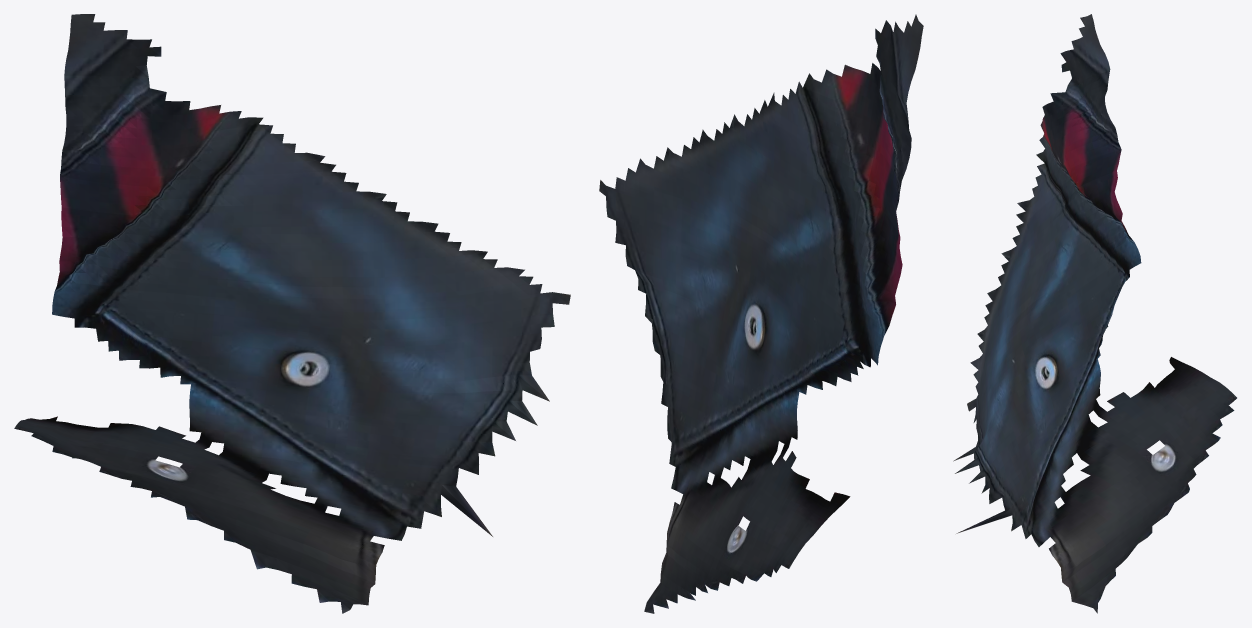
The model's file is observed-surface.glb.
The picture shows the model from 3 angles, left to right: view 1: azimuth 30°, elevation 25°; view 2: azimuth 150°, elevation 25°; view 3: azimuth 270°, elevation 25°; orthographic projection. The views are drawn at different scales.
Visible parts, largest first — view 1: geometry_0; view 2: geometry_0; view 3: geometry_0.
Boxes of the visible parts, x1,y1,x2,y2 form: geometry_0: (14, 14, 570, 613); geometry_0: (599, 14, 923, 613); geometry_0: (953, 14, 1236, 613).
Size of the model in its own units: 0.4434 by 0.6837 by 0.3537.
Materials: 1 (1 with a texture image).
